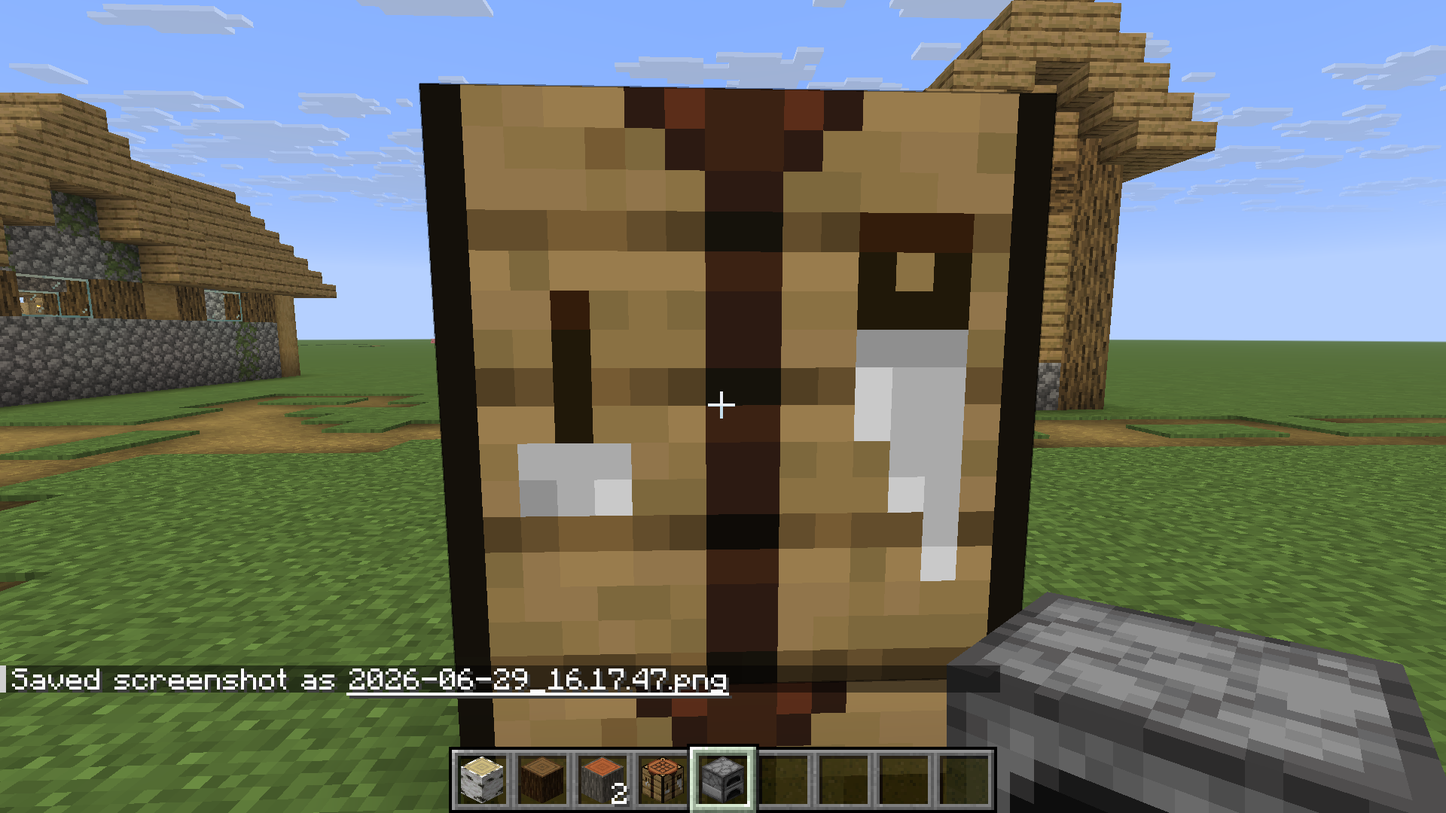verstak: (417, 82, 1039, 656)
